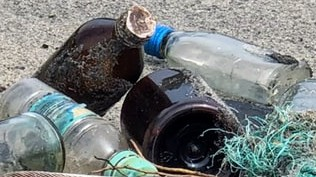garbage: (79, 19, 316, 174), (60, 45, 316, 176), (40, 25, 255, 177), (2, 80, 314, 177)
